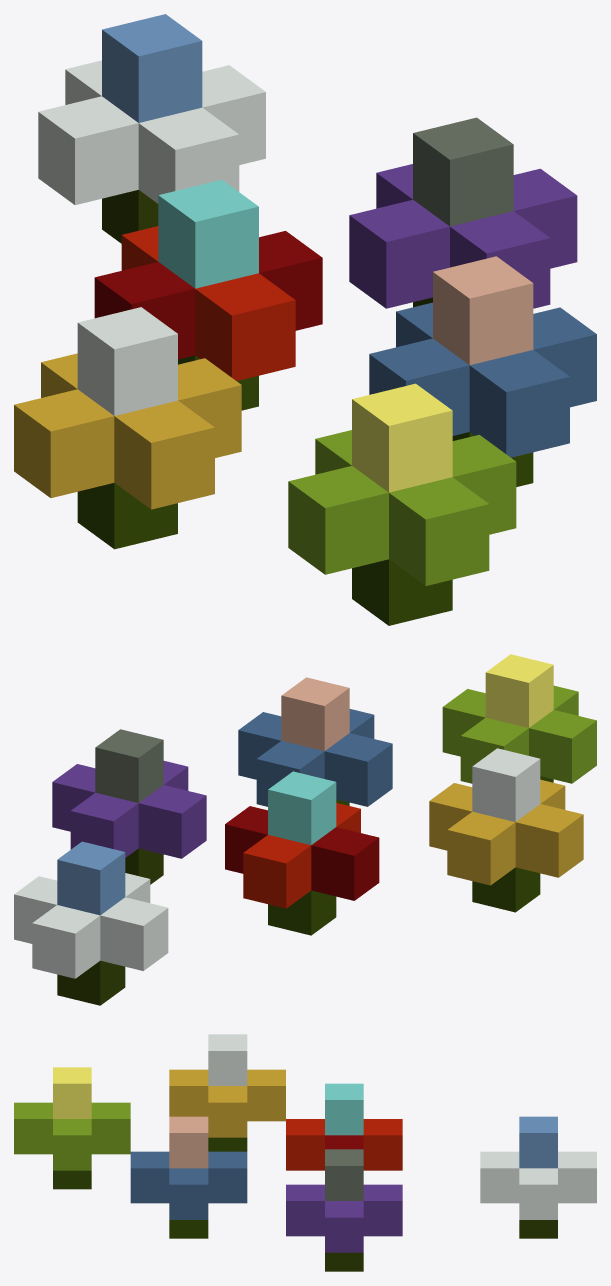
Rendered from flower3.obj.
3 views of the same model, one above another, from view 1: azimuth 30°, elevation 25°; view 2: azimuth 150°, elevation 25°; view 3: azimuth 270°, elevation 25° (orthographic). The views are drawn at different scales.
Visible parts, largest first — view 1: flower3; view 2: flower3; view 3: flower3.
Boxes of the visible parts, x1,y1,x2,y2 form: flower3: (14,14,596,625); flower3: (14,654,596,1005); flower3: (14,1034,596,1271).
Bounding box in the file's own units: 10 × 3 × 15.
1 material, 1 textured.
